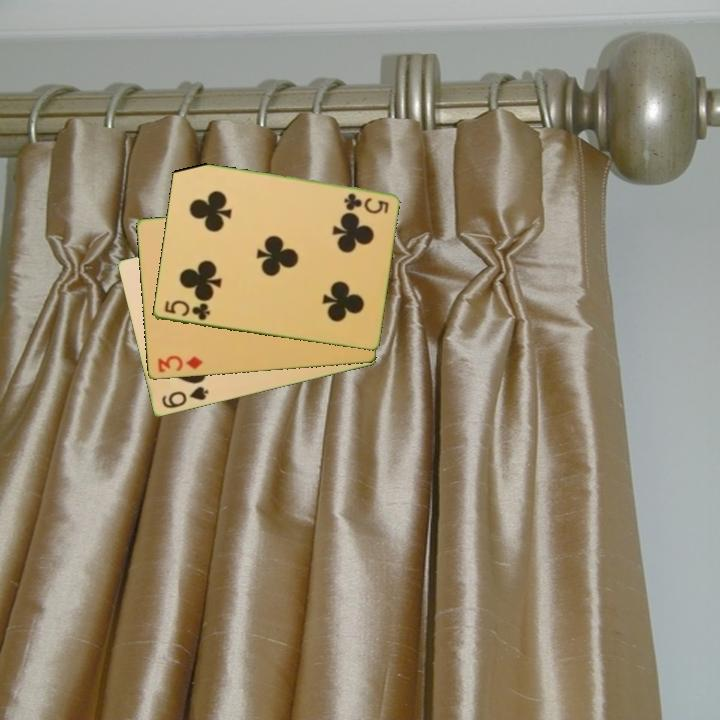3d: (154, 352, 205, 376)
5c: (160, 297, 212, 324), (340, 190, 391, 216)
6s: (158, 383, 211, 412)
